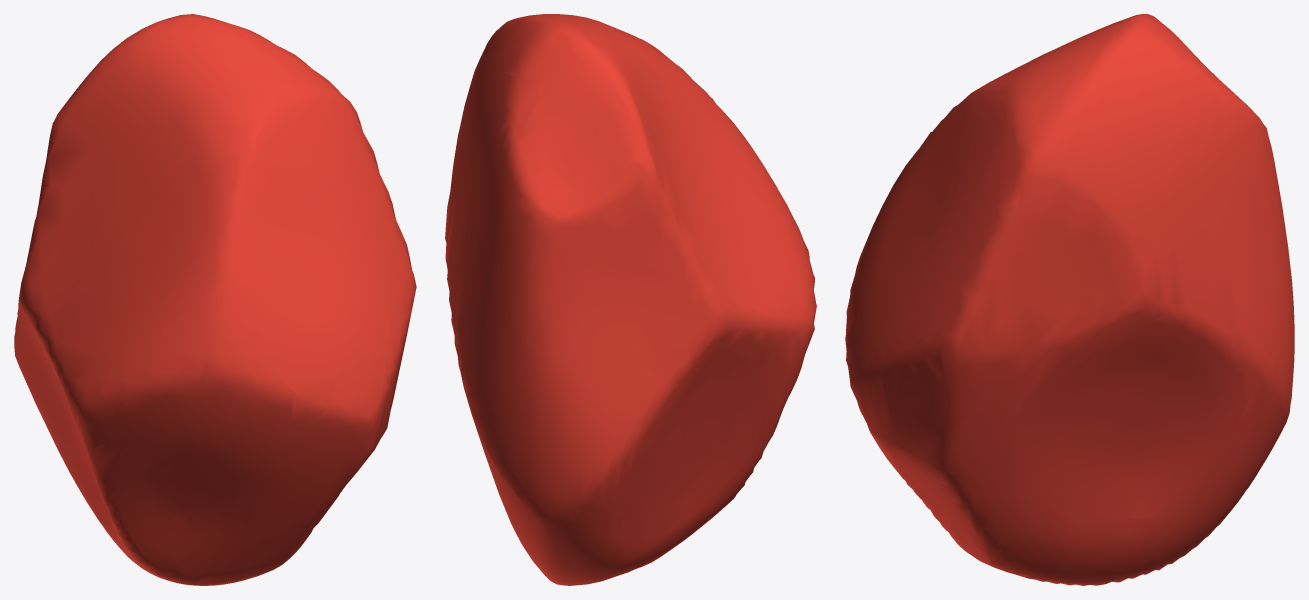
Rendered from Stone Heart.fbx.
The picture shows the model from 3 angles, left to right: view 1: azimuth 30°, elevation 25°; view 2: azimuth 150°, elevation 25°; view 3: azimuth 270°, elevation 25°; orthographic projection. The views are drawn at different scales.
Parts seen in each view (by area): view 1: Cube; view 2: Cube; view 3: Cube.
Part boxes in pixels (box(x1,y1,x2,y2)): Cube: box(14, 14, 416, 585); Cube: box(445, 14, 816, 585); Cube: box(845, 14, 1294, 585).
Size of the model in its own units: 59.68 by 94.1 by 68.73.
